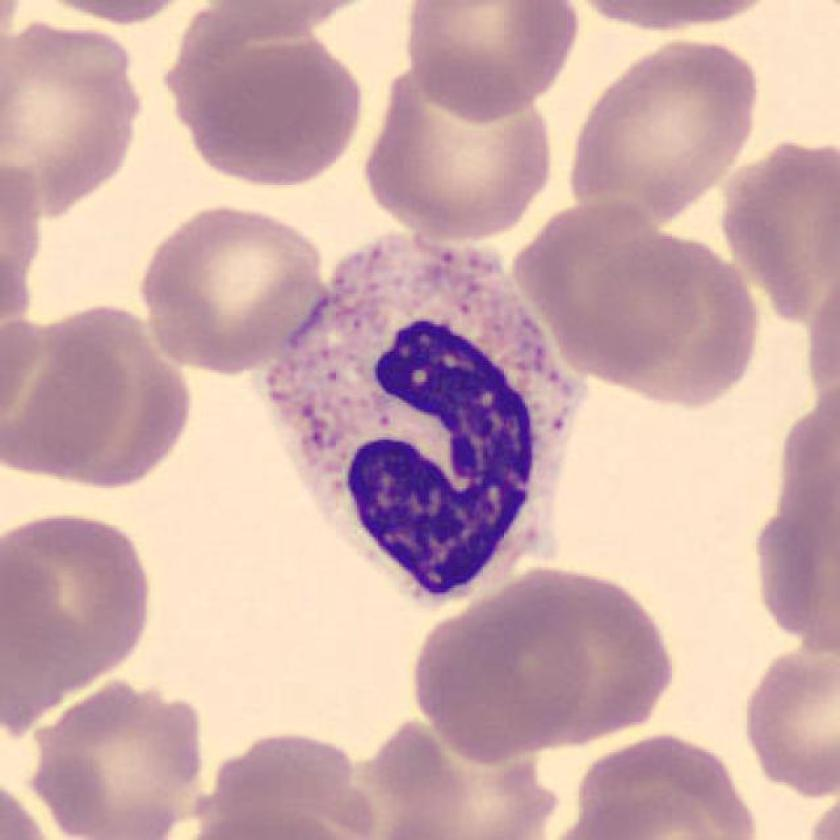neutrophil: (269, 239, 577, 598)
